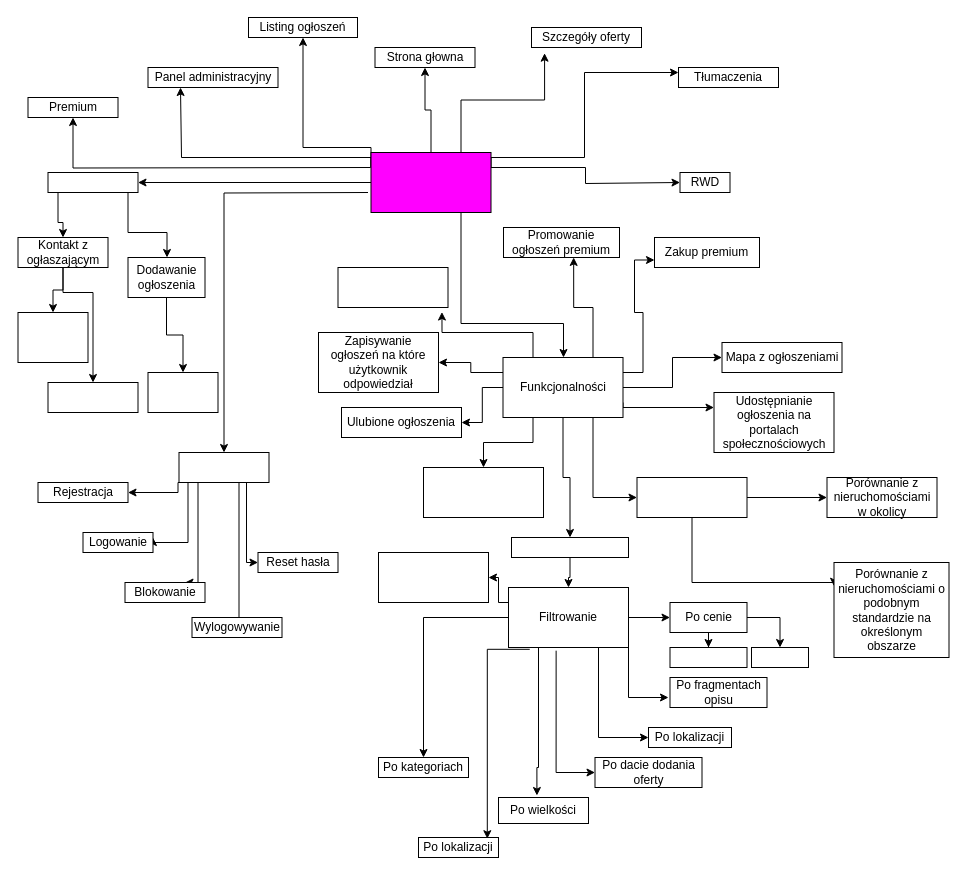
Image size: 966x875. Some labels were removed from this diagram. The box of each missing label's shape, as (x1, y1, x2, y2) in pixels:
Całkowita: (669, 646, 747, 668)
Dodawanie zdjęć: (147, 372, 218, 412)
Dynamiczne doładowywanie listingu: (422, 466, 544, 518)
Formularze: (47, 172, 138, 192)
Po informacjach dodatkowych (checkboxy): (378, 552, 488, 602)
Projekt wyszukiwarki ofert nieruchomości: (370, 152, 491, 212)
Raport nieruchomości: (636, 476, 747, 518)
Statystyki dla ogłaszającego: (337, 266, 448, 308)
Uwierzytlenianie: (178, 452, 269, 482)
Wiadomośc na konto użytkownika: (17, 312, 88, 362)
Wiadomość email: (47, 382, 138, 412)
Wyszukiwarka: (510, 536, 628, 558)
Za metr: (750, 646, 808, 668)
